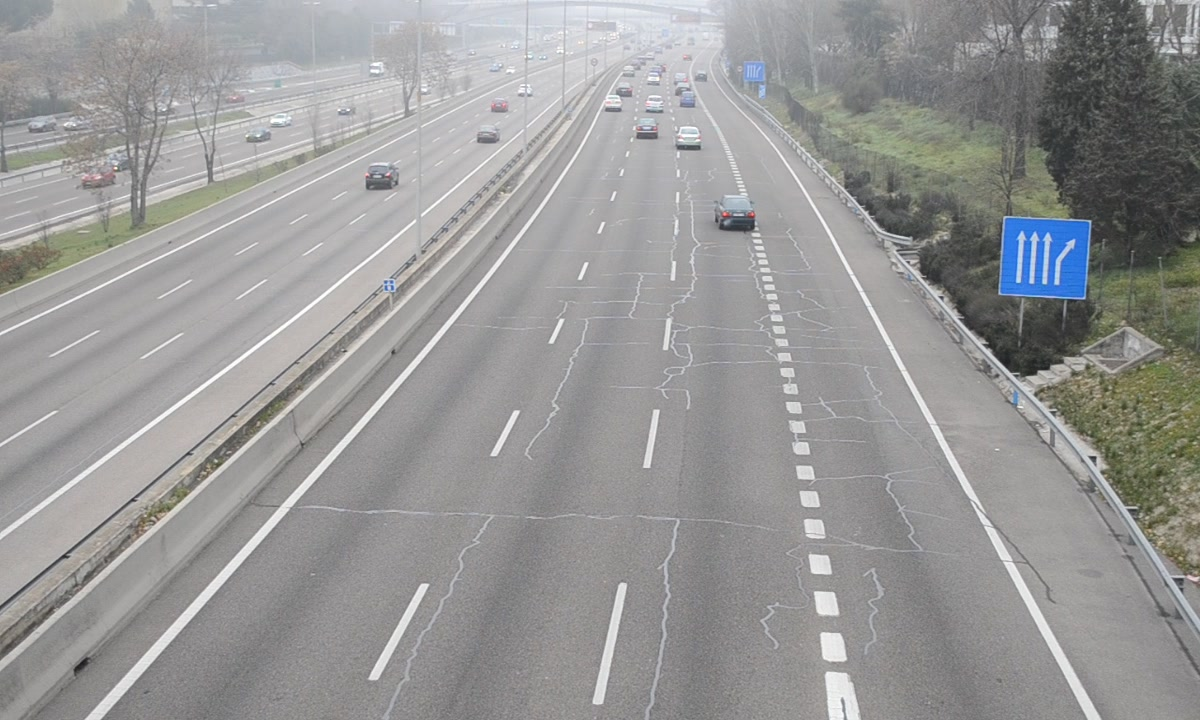car: (716, 194, 758, 232), (674, 124, 703, 151)
